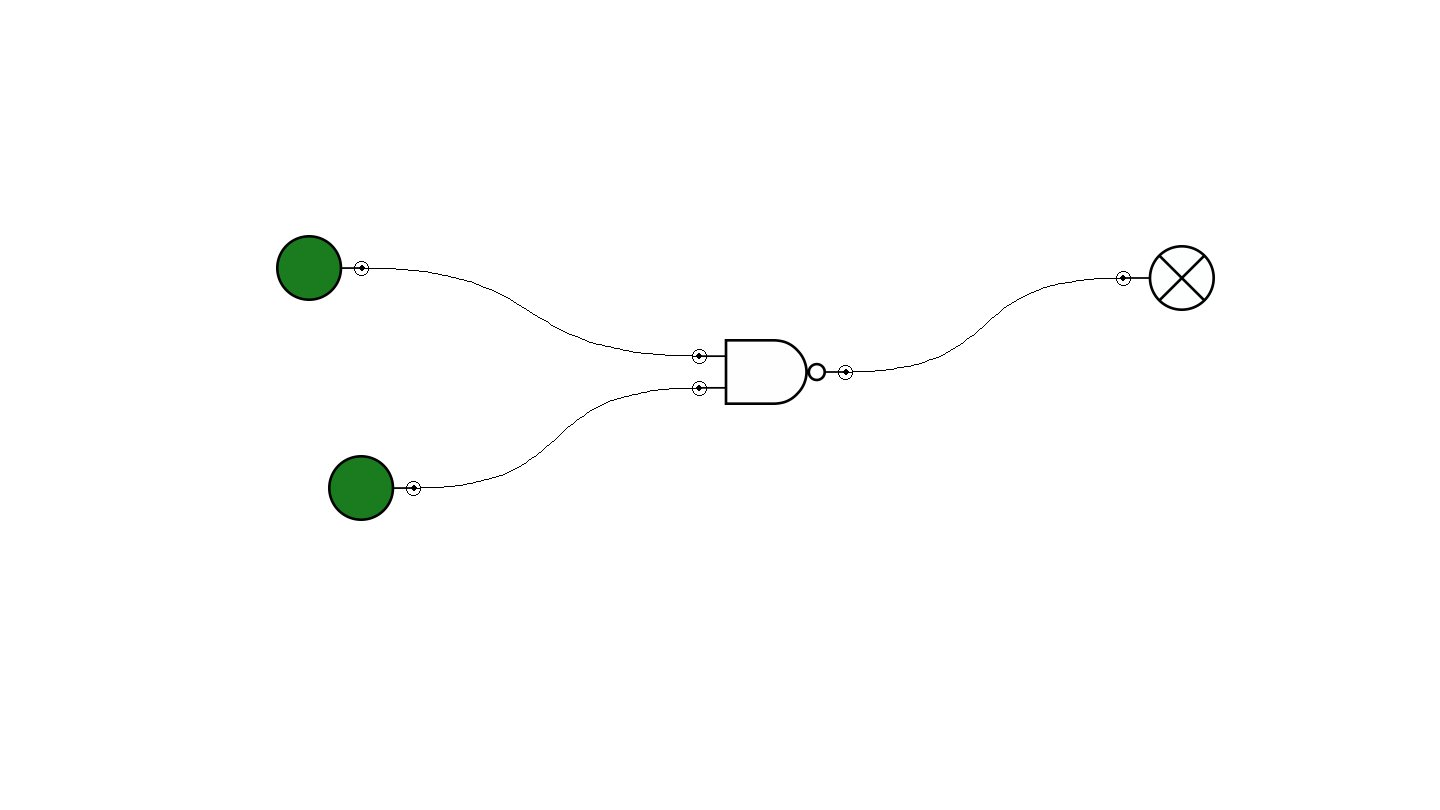bulb: (1116, 245, 1215, 311)
nand: (692, 339, 853, 405)
switch_True: (276, 235, 369, 301), (328, 455, 421, 521)
